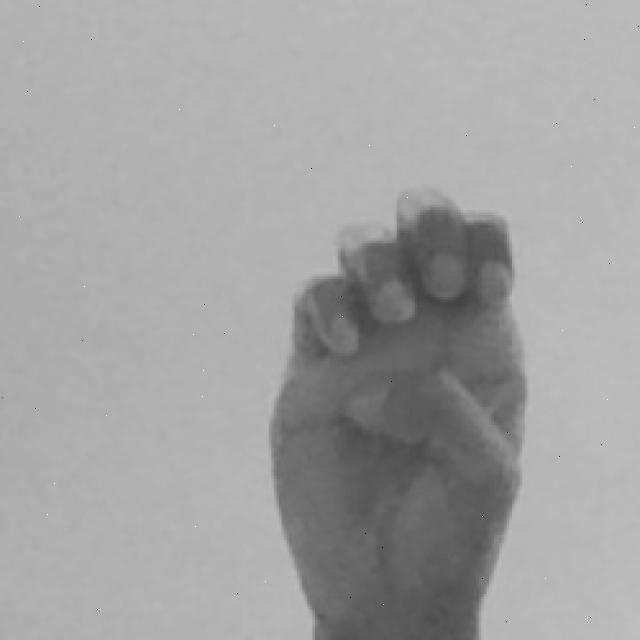E: (271, 181, 535, 640)
